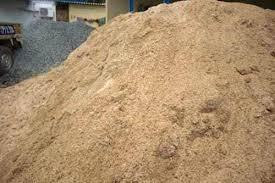sand: (127, 67, 167, 92), (215, 155, 236, 174), (61, 140, 82, 158), (180, 27, 199, 45), (78, 86, 94, 100)
